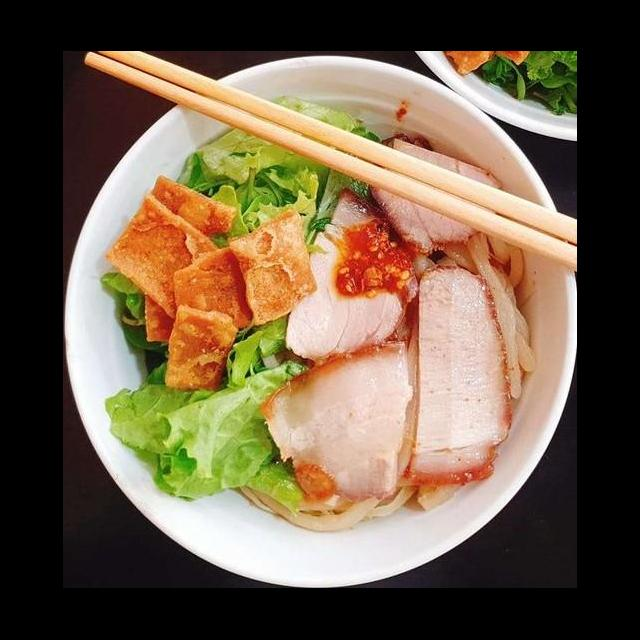banh da: (127, 170, 240, 352), (100, 190, 235, 328), (222, 205, 320, 332), (166, 240, 264, 342), (160, 300, 242, 396)
mi: (433, 225, 540, 406), (230, 472, 418, 536)
mi quang: (69, 90, 577, 584)
thit heo: (255, 336, 425, 508), (397, 260, 517, 496), (276, 182, 424, 372), (362, 130, 507, 260)
